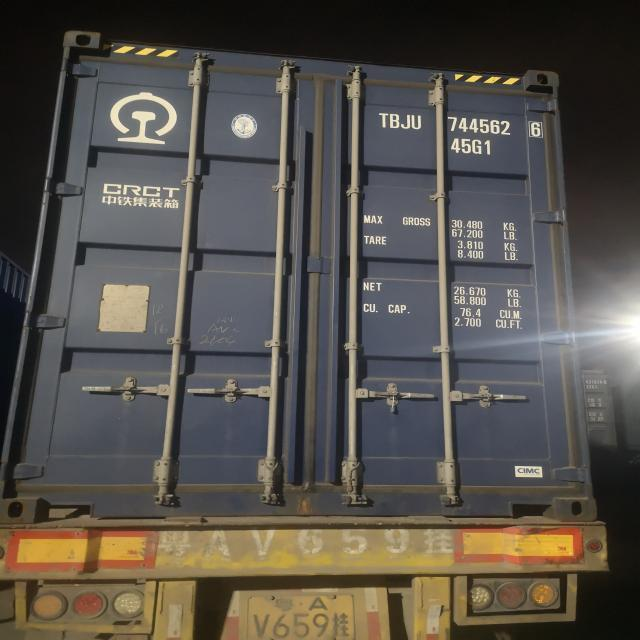ISO: (451, 139, 494, 156)
container_number: (380, 111, 548, 138)
